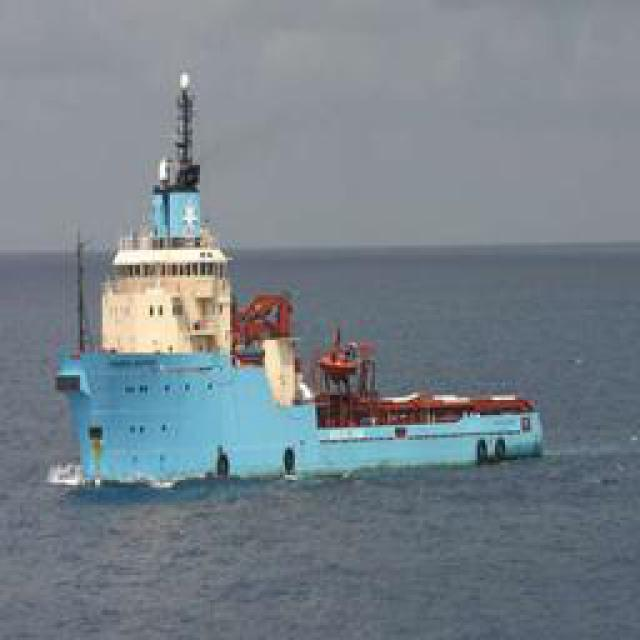Ship: (60, 68, 545, 485)
